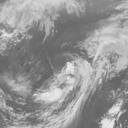cyclone: (33, 55, 93, 109)
